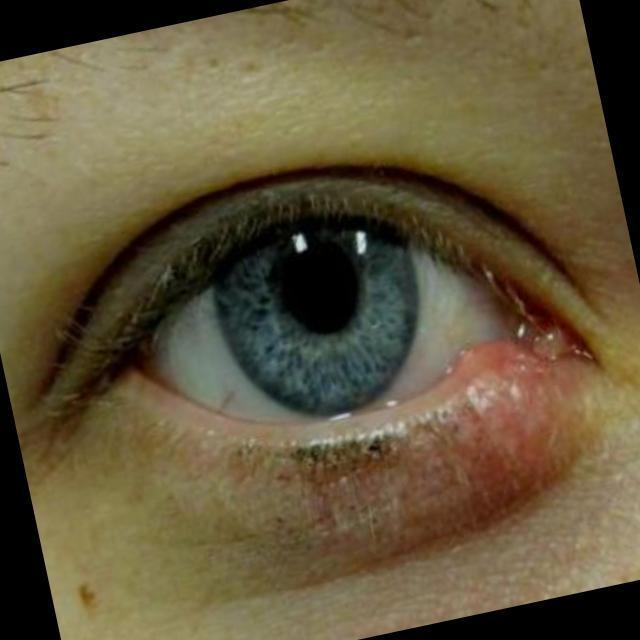Stye: (363, 266, 635, 522)
